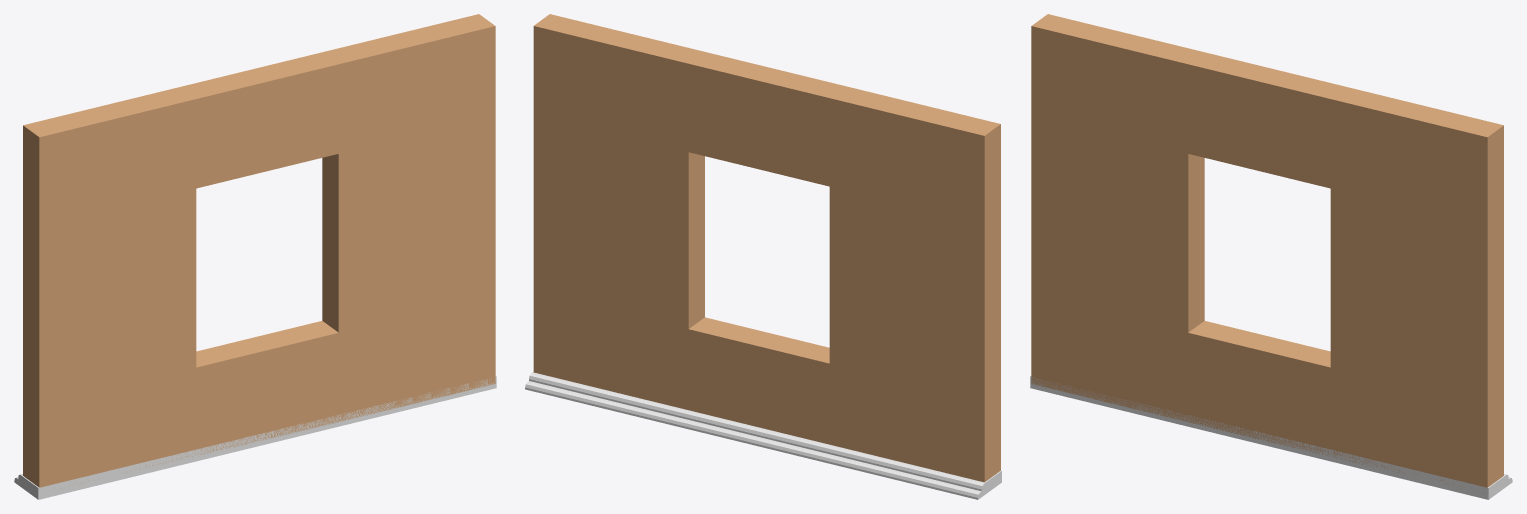
File: WindowWall.fbx
3 renders of one model, left to right at view 1: azimuth 30°, elevation 25°; view 2: azimuth 150°, elevation 25°; view 3: azimuth 330°, elevation 25°, orthographic.
Parts seen in each view (by area): view 1: WindowWall, WindowWallTrim; view 2: WindowWall, WindowWallTrim; view 3: WindowWall, WindowWallTrim.
Part boxes in pixels (x1=…): WindowWall: x1=23, y1=14, x2=495, y2=489; WindowWallTrim: x1=14, y1=376, x2=496, y2=499; WindowWall: x1=533, y1=14, x2=1000, y2=482; WindowWallTrim: x1=525, y1=371, x2=1001, y2=499; WindowWall: x1=1031, y1=14, x2=1503, y2=493; WindowWallTrim: x1=1030, y1=376, x2=1512, y2=499.
Size of the model in its own units: 8.03 by 6.07 by 0.7296.
